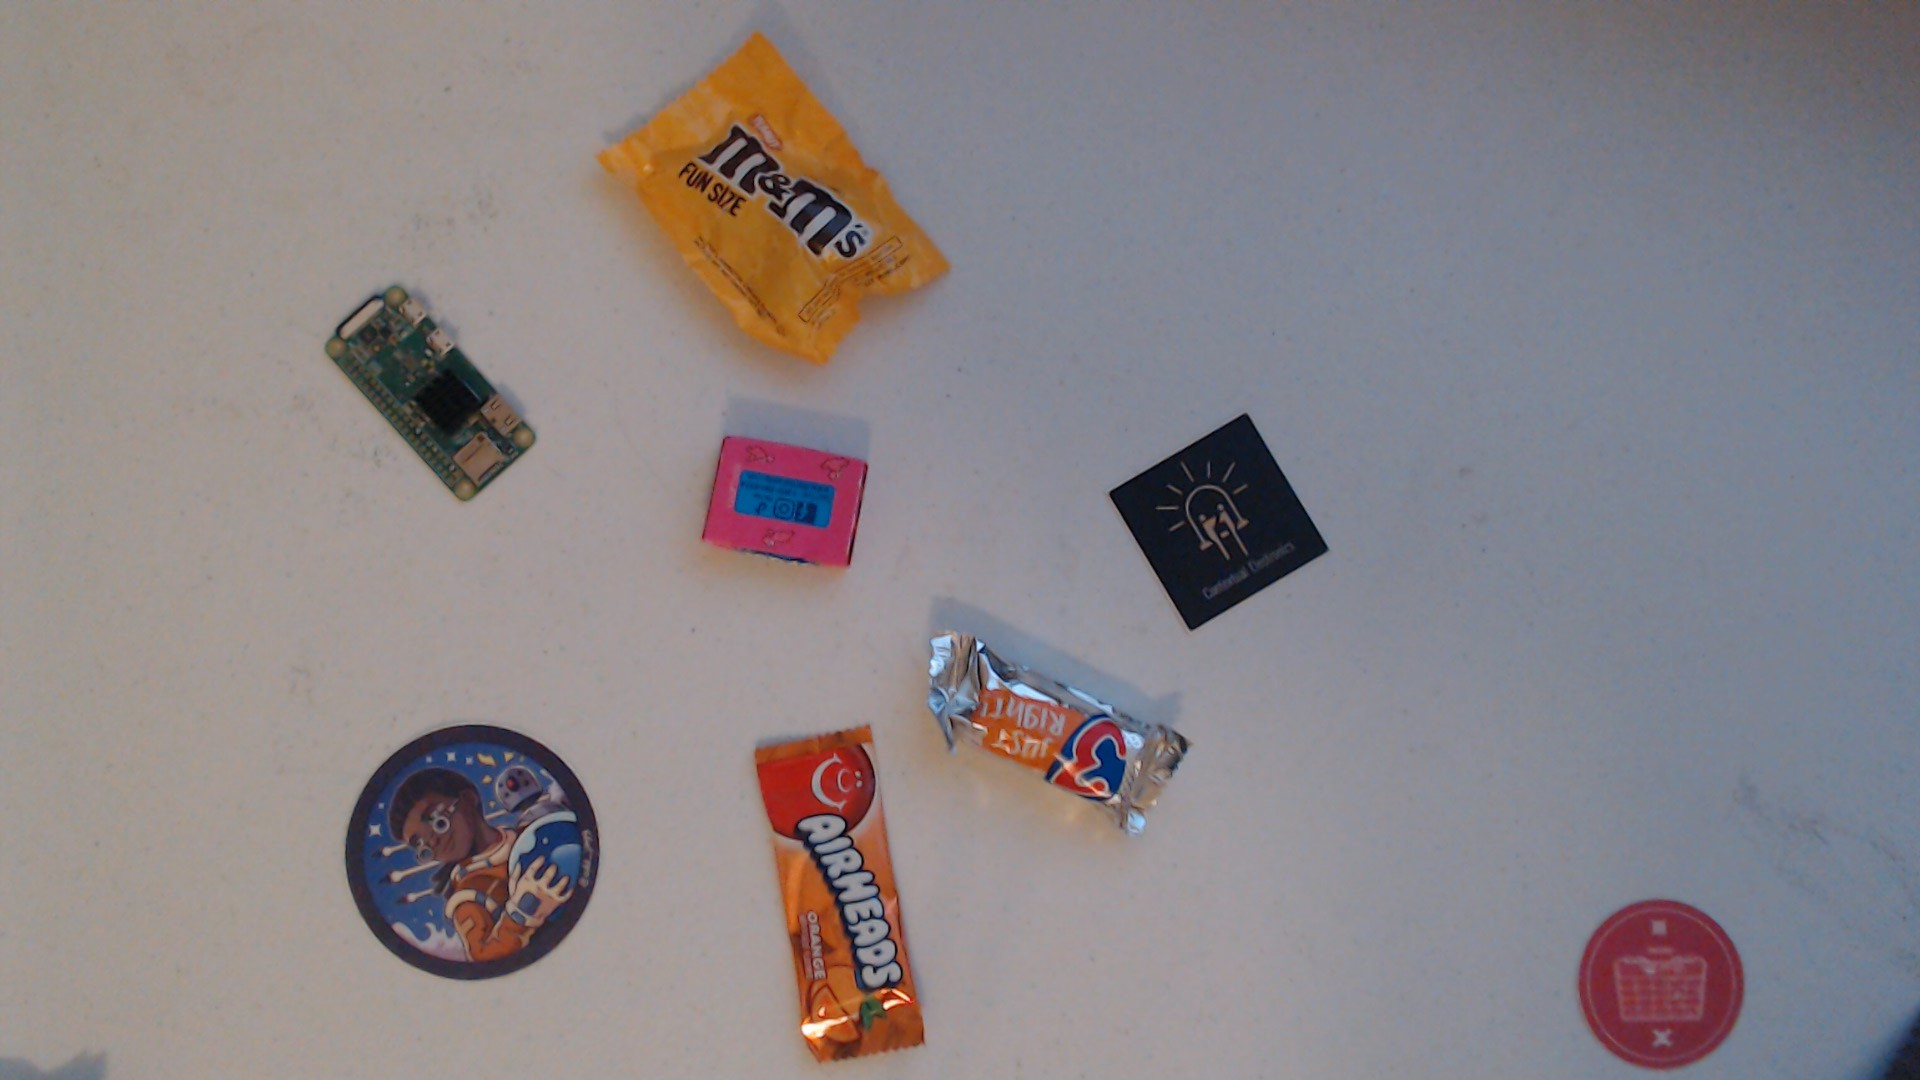MMs_regular: (543, 32, 972, 376)
airheads: (719, 708, 922, 1077)
nerds: (686, 411, 906, 595)
three_musketeers: (919, 603, 1201, 877)
